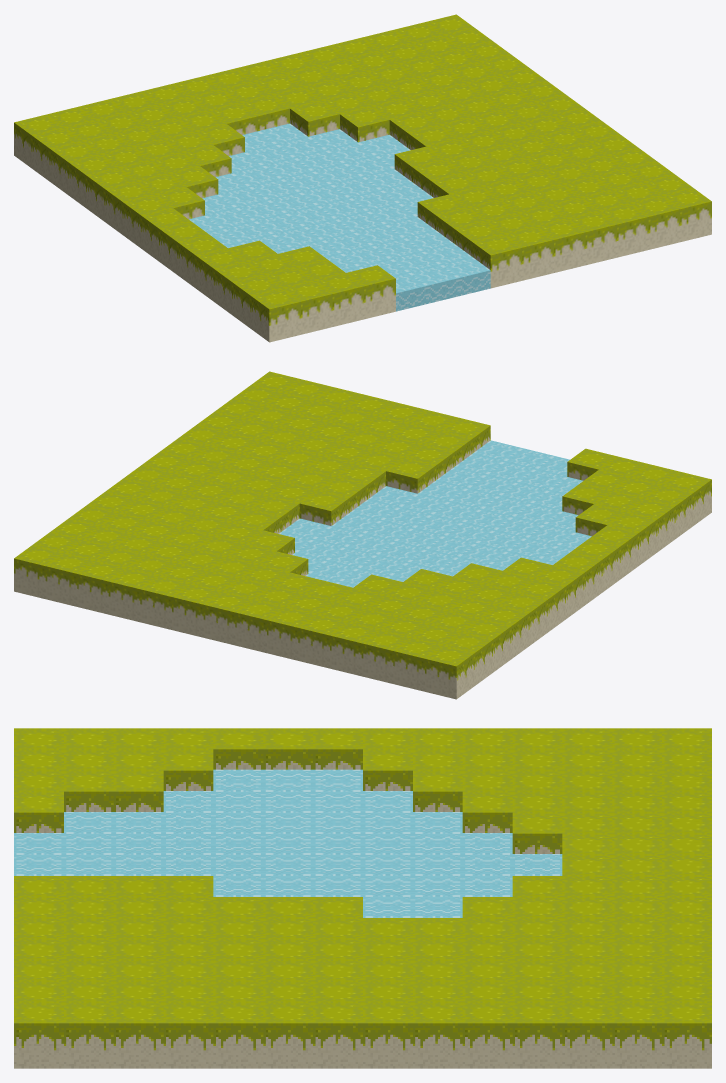
3 views of the same model, one above another, from view 1: azimuth 30°, elevation 25°; view 2: azimuth 150°, elevation 25°; view 3: azimuth 270°, elevation 25° (orthographic). The views are drawn at different scales.
Visible parts, largest first — view 1: Ground_Grass_D__2__1__42__1; view 2: Ground_Grass_D__2__1__42__1; view 3: Ground_Grass_D__2__1__42__1.
Part boxes in pixels (<box>): Ground_Grass_D__2__1__42__1: <box>14,14,711,342</box>; Ground_Grass_D__2__1__42__1: <box>14,371,711,699</box>; Ground_Grass_D__2__1__42__1: <box>14,728,711,1068</box>.
Size of the model in its own units: 8400 by 600 by 8400.
2 materials, 2 textured.
